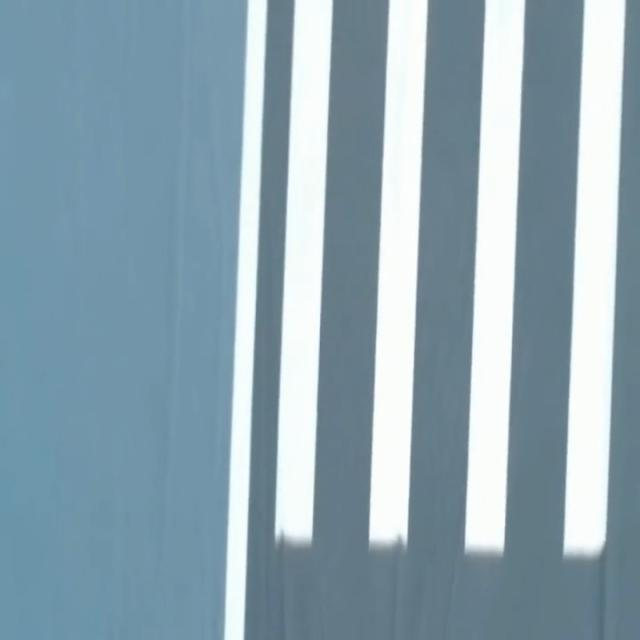left: (224, 0, 267, 639)
